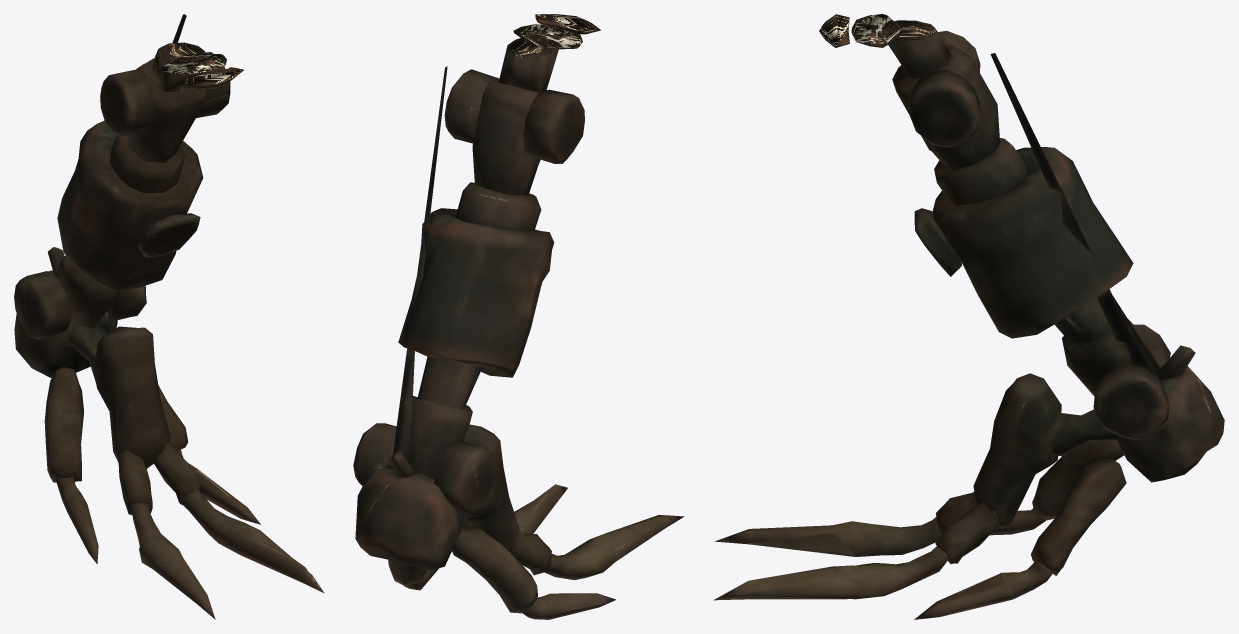
File: leg-walker.glb
3 renders of one model, left to right at view 1: azimuth 30°, elevation 25°; view 2: azimuth 150°, elevation 25°; view 3: azimuth 270°, elevation 25°, orthographic. The views are drawn at different scales.
Visible parts, largest first — view 1: leg-walker; view 2: leg-walker; view 3: leg-walker.
Part boxes in pixels (bbox=[...]): leg-walker: bbox=[14, 14, 324, 619]; leg-walker: bbox=[353, 14, 684, 619]; leg-walker: bbox=[713, 14, 1224, 619].
Bounding box in the file's own units: 0.2949 × 0.85 × 0.7236.
1 material, 1 textured.
